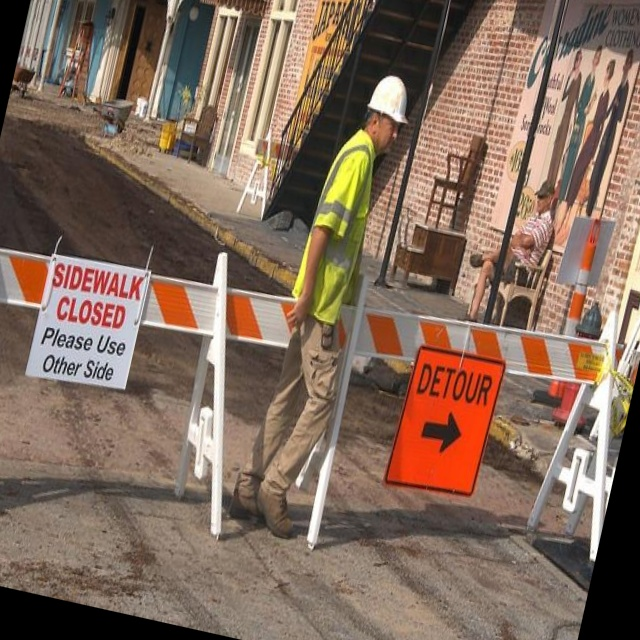Con_Casco: (360, 72, 416, 151)
Con_Chaleco: (289, 132, 387, 330)
